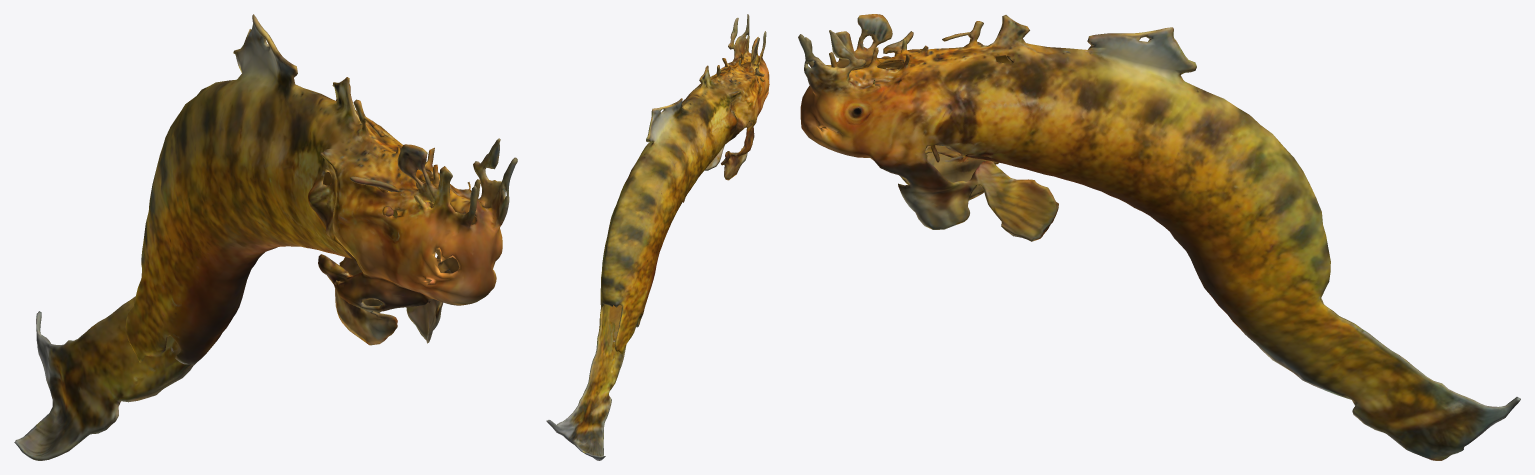
The model's file is mosshead-warbonnet.glb.
3 views of the same model, side by side, from view 1: azimuth 30°, elevation 25°; view 2: azimuth 150°, elevation 25°; view 3: azimuth 270°, elevation 25° (orthographic). The views are drawn at different scales.
Bounding box in the file's own units: 0.3155 × 1.44 × 2.
1 material, 1 textured.
